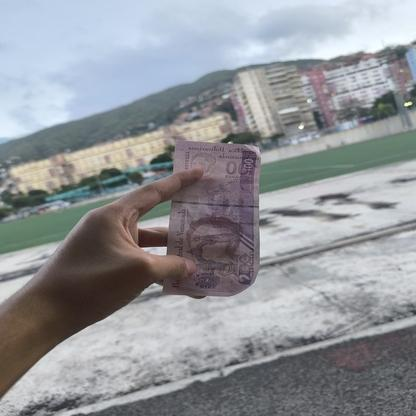one_hundred-back-vef: (161, 140, 262, 296)
